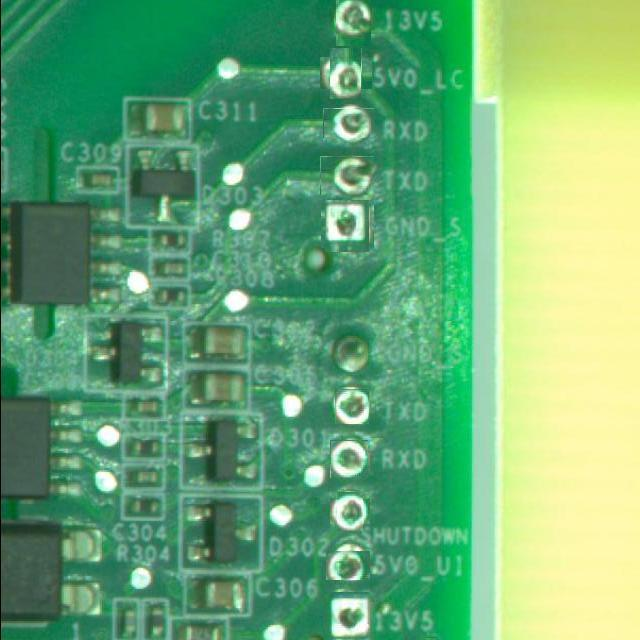lack_of_part: (323, 202, 372, 250), (324, 592, 370, 640), (320, 156, 374, 195), (330, 0, 376, 41), (325, 52, 367, 94), (323, 108, 374, 138), (330, 441, 368, 478), (325, 550, 370, 580), (335, 389, 369, 424), (333, 494, 367, 528)
